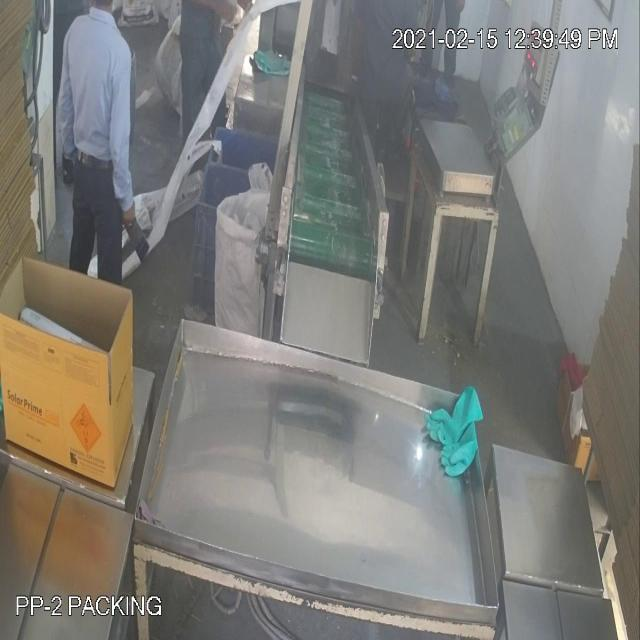gloves: (415, 384, 489, 487)
no-gloves: (109, 41, 142, 232)
